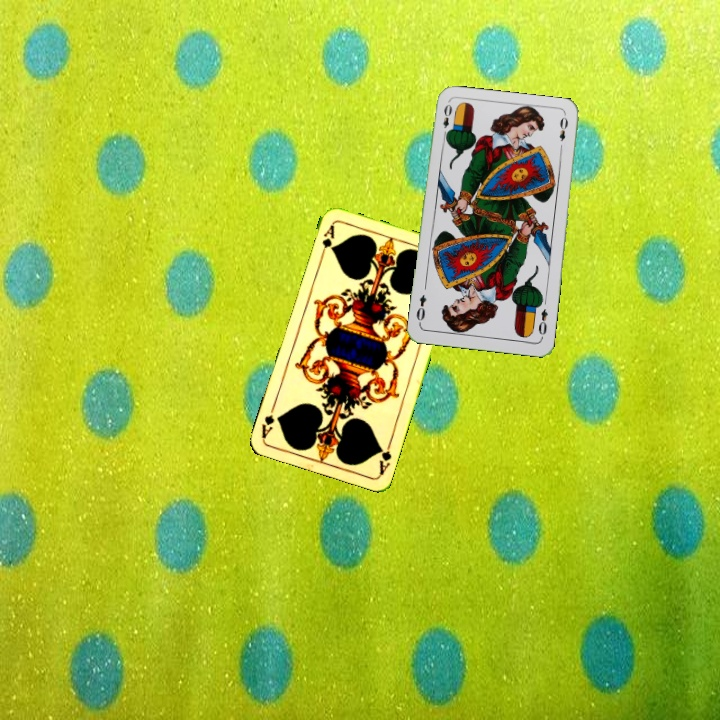EO: (439, 100, 454, 140), (534, 305, 550, 341)
GA: (316, 221, 337, 260), (375, 437, 394, 477)
